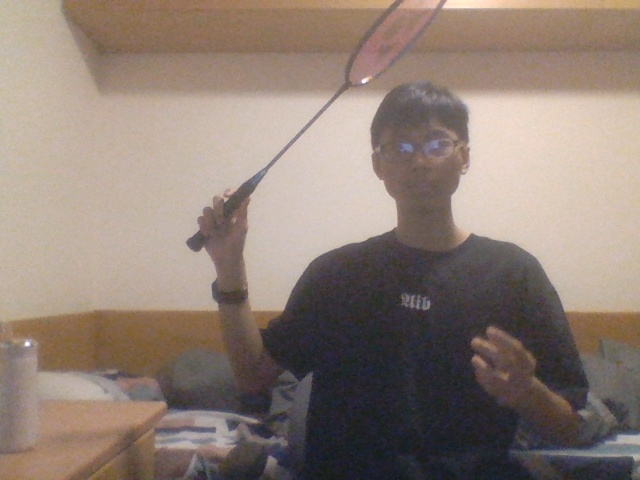human: (197, 82, 590, 480)
racket: (186, 1, 446, 254)
